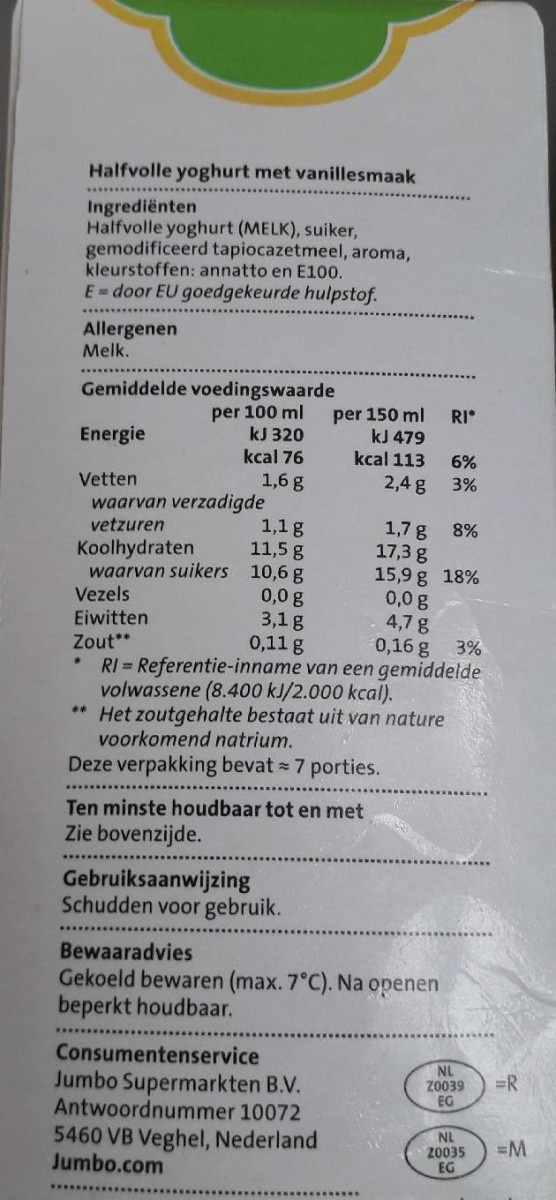column: (75, 404, 305, 652), (330, 407, 435, 656), (442, 405, 480, 658)
table: (71, 367, 488, 656)
